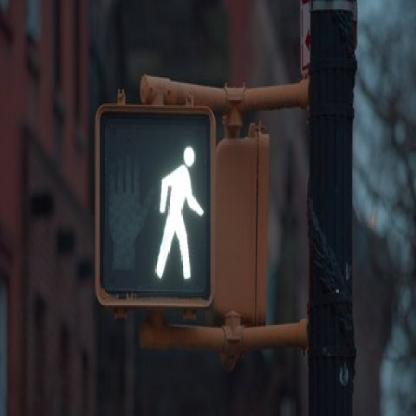Walk: (98, 109, 214, 302)
